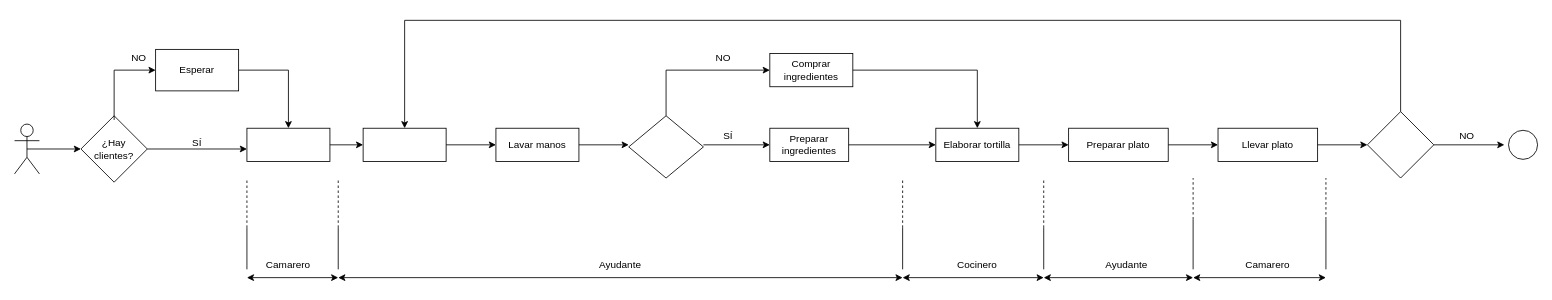
Some shapes in this 1552 by 300 pixel diagram are drawn without their labels. The centre of each missing label's shape, as x and y in pixels:
"Recoger pedido" belongs at (x=404, y=144).
"Tomar nota cliente" belongs at (x=288, y=144).
"¿Hay ingredientes?" belongs at (x=665, y=146).
"¿Hay más pedidos?" belongs at (x=1400, y=144).
